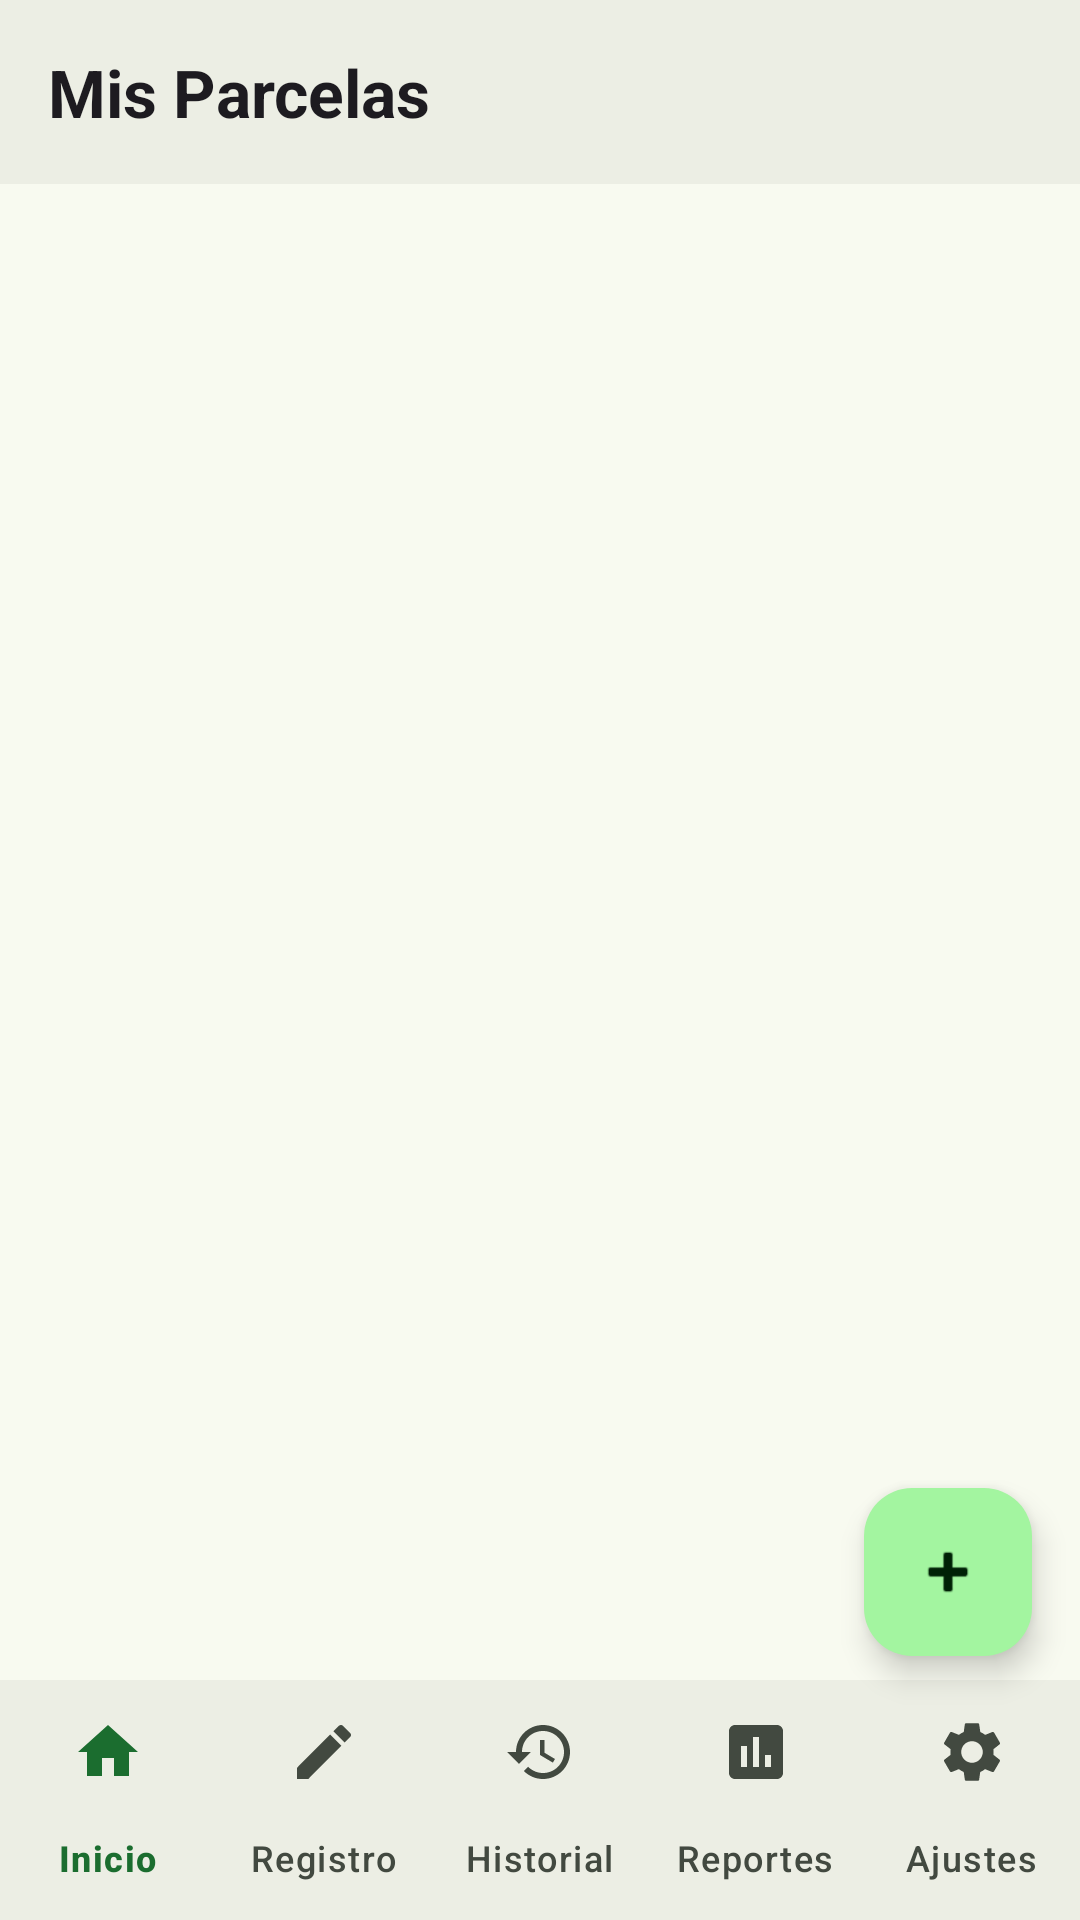

Point at icon controls on the screen. Image size 1080w x 1920h, points as [x,y].
add: [948,1572]
